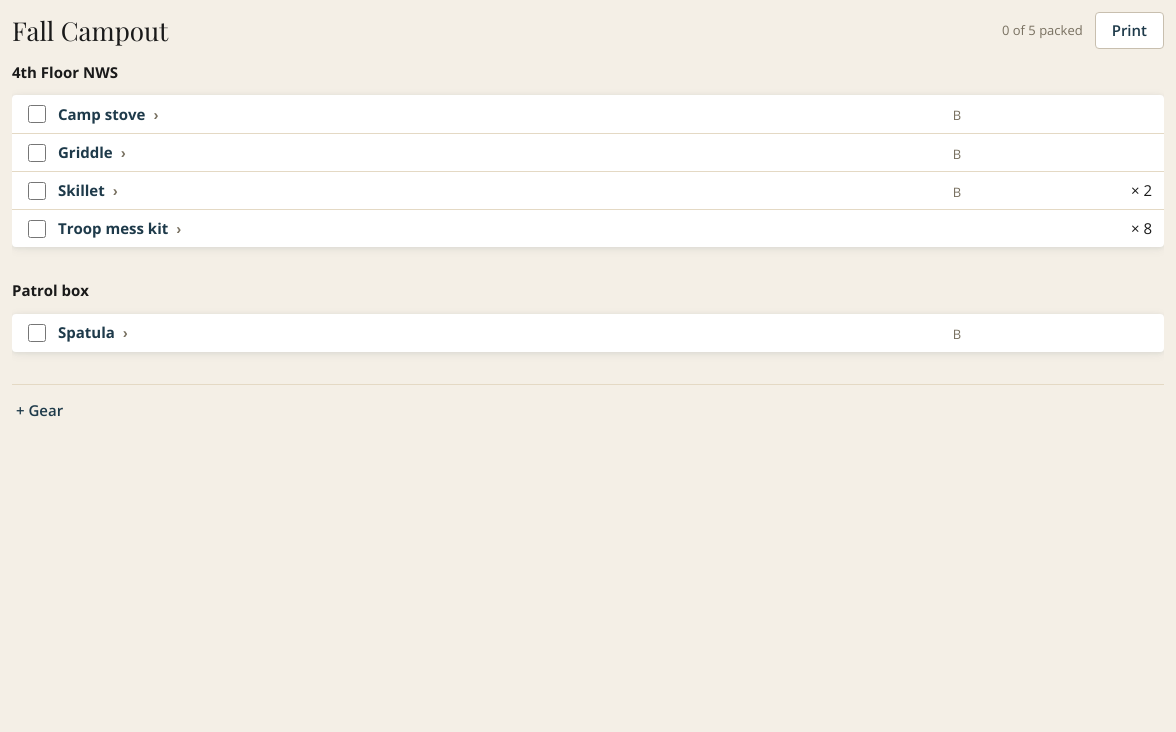
Test case: Gear tab › AddGear_OffersOnlyUnusedMasterItems_AToZ_AndNeverACreateRow
Click the button "+ Gear" at (40, 410), box x1=12 y1=388 x2=67 y2=432
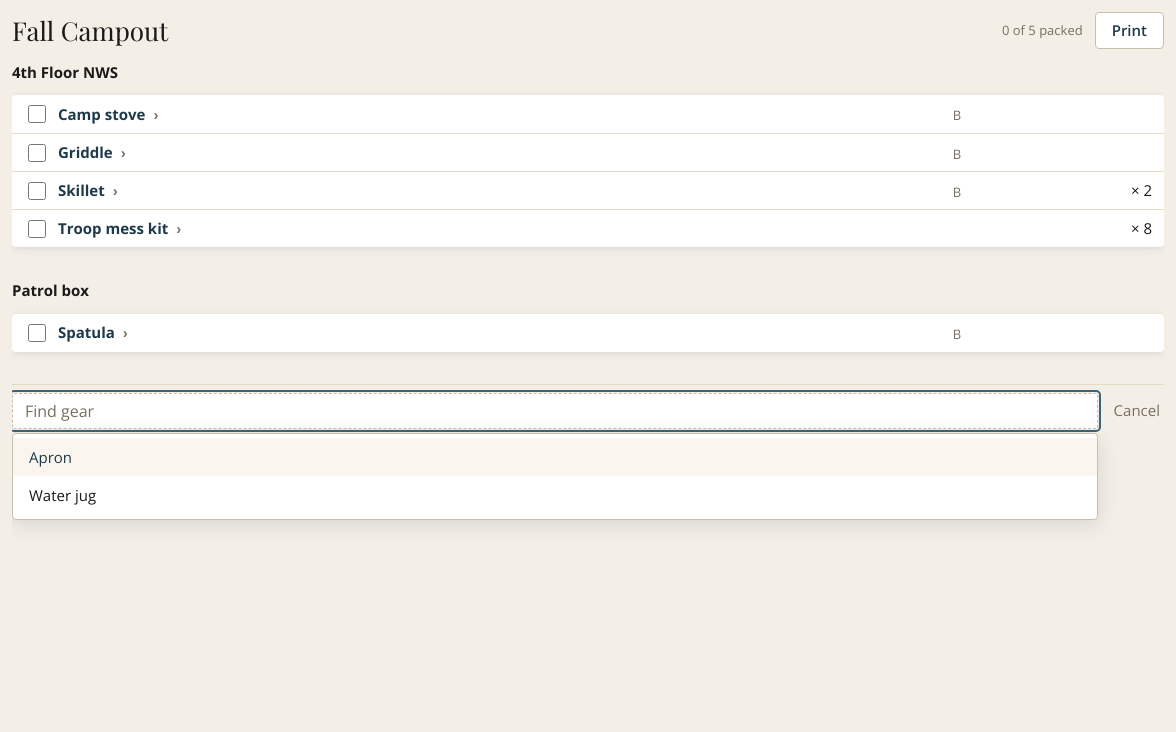
expect the options read "Apron", "Water jug", in this order: met, box x1=13 y1=438 x2=1097 y2=476; x1=29 y1=485 x2=96 y2=505
Type "ladle" into the dropdown named "Add gear" at (555, 410), box x1=12 y1=392 x2=1098 y2=428
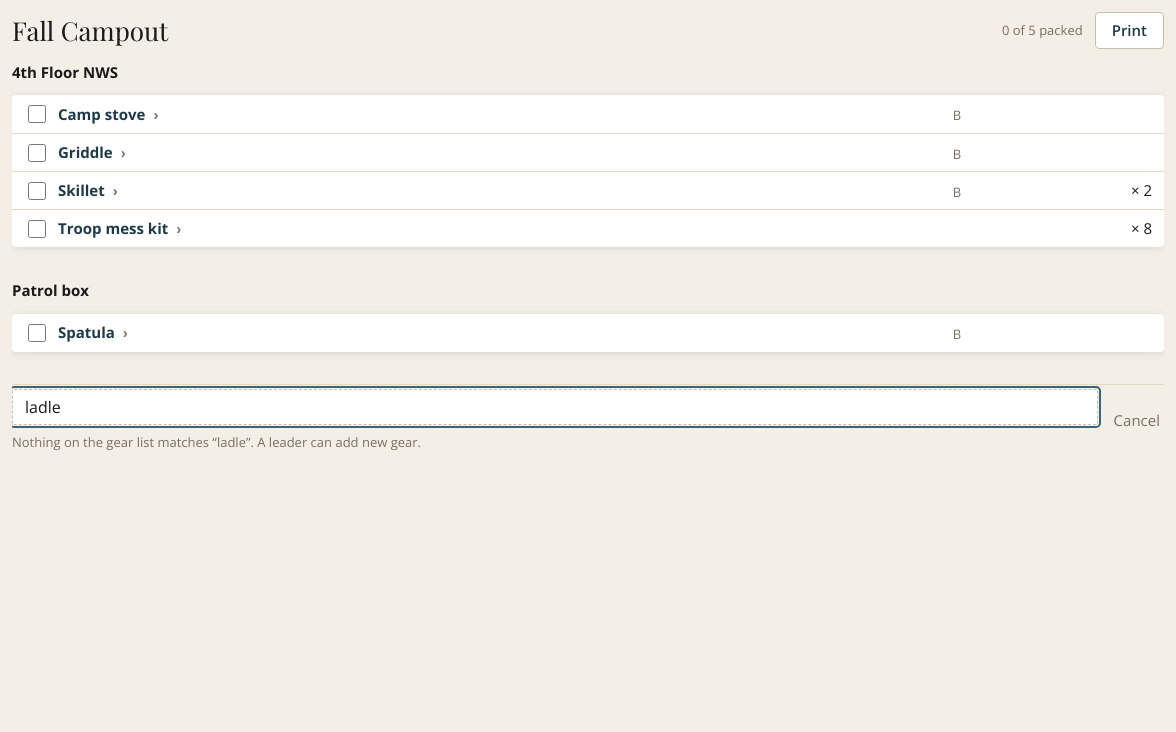
expect the text "Nothing on the gear list matches “ladle”" is shown: met, box x1=12 y1=432 x2=421 y2=450
